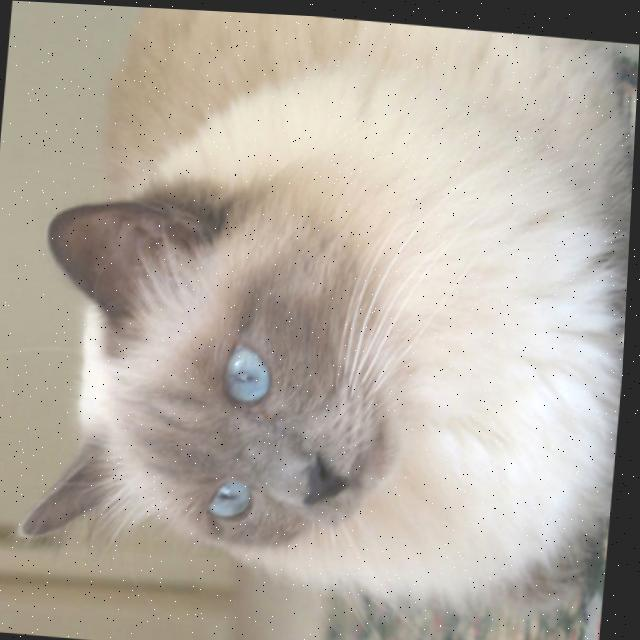Birman: (11, 1, 640, 622)
